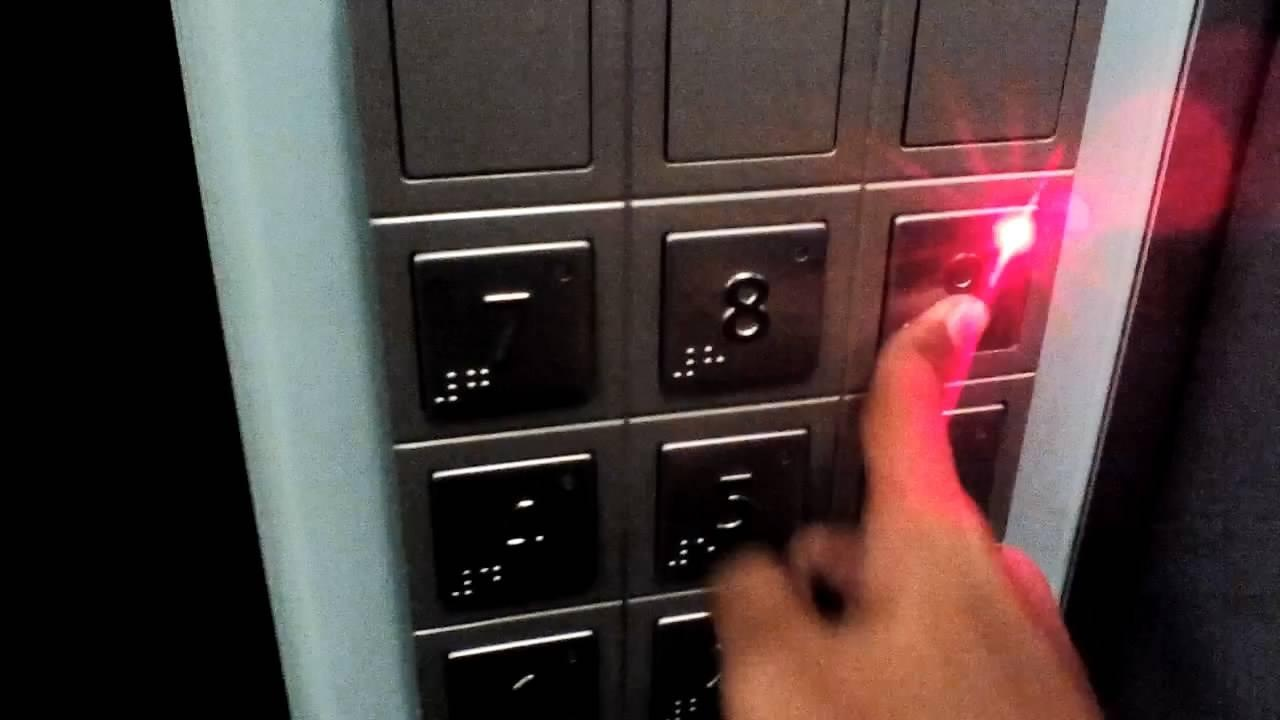4: (432, 451, 604, 615)
5: (653, 428, 811, 585)
7: (407, 240, 601, 426)
8: (660, 218, 830, 398)
blur: (876, 204, 1040, 357)
